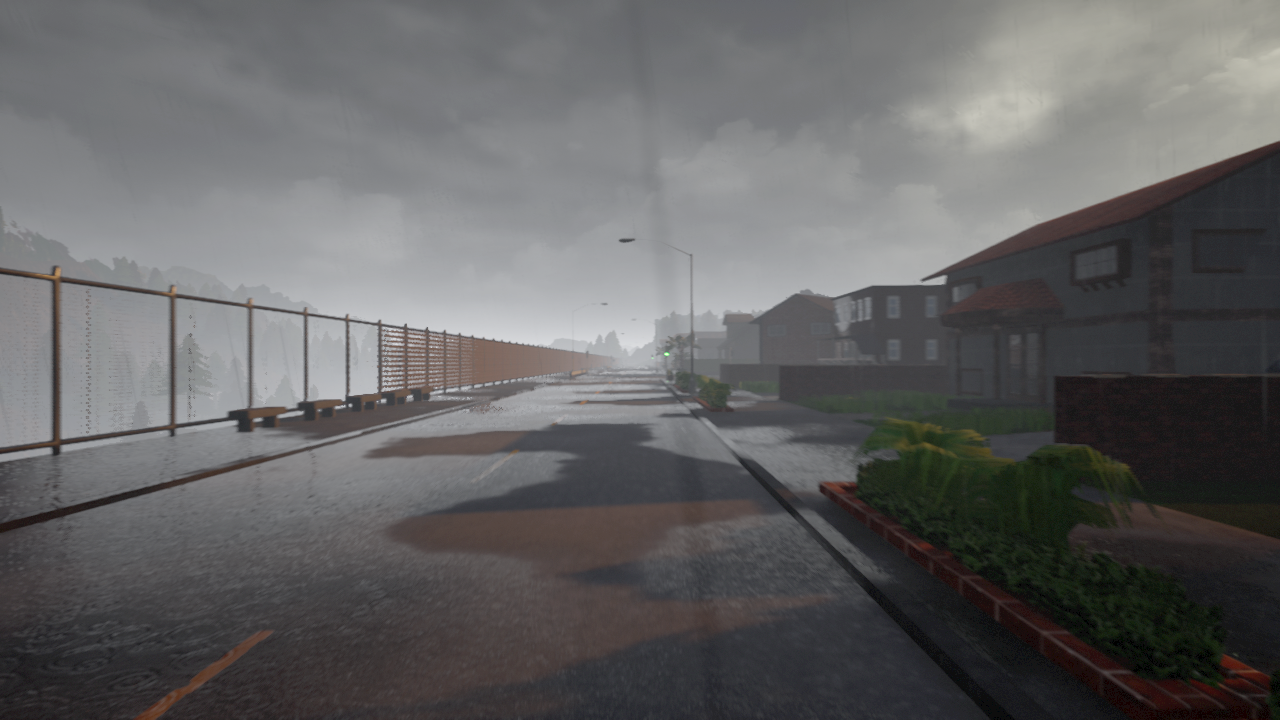green: (664, 346, 669, 357)
